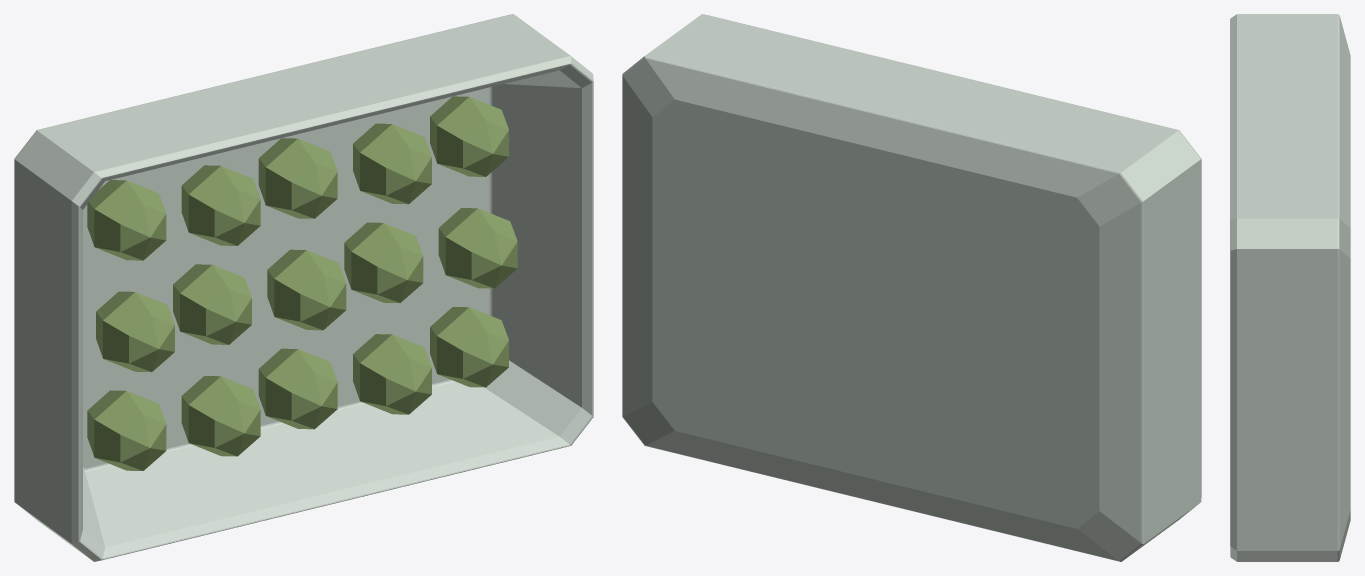
The model's file is gooseberries.glb.
3 renders of one model, left to right at view 1: azimuth 30°, elevation 25°; view 2: azimuth 150°, elevation 25°; view 3: azimuth 270°, elevation 25°, orthographic. The views are drawn at different scales.
Parts seen in each view (by area): view 1: gooseberries; view 2: gooseberries; view 3: gooseberries.
Boxes of the visible parts, box(x1,y1,x2,y2) form: gooseberries: box(14, 14, 593, 561); gooseberries: box(622, 14, 1201, 561); gooseberries: box(1230, 14, 1350, 561).
Bounding box in the file's own units: 0.14 × 0.1 × 0.0318.
